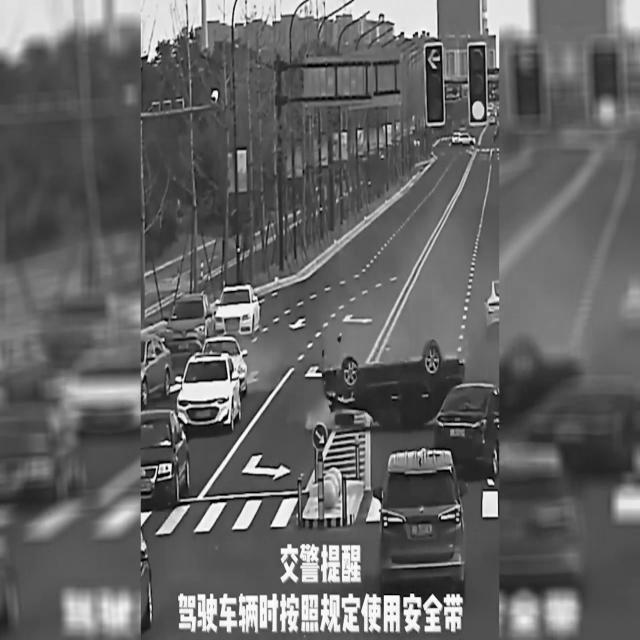accident: (321, 344, 465, 430)
vehicle: (381, 451, 471, 589), (430, 381, 498, 474), (141, 405, 197, 507), (178, 348, 239, 430), (164, 291, 213, 357), (215, 282, 261, 340), (141, 328, 174, 400), (450, 130, 478, 146)
